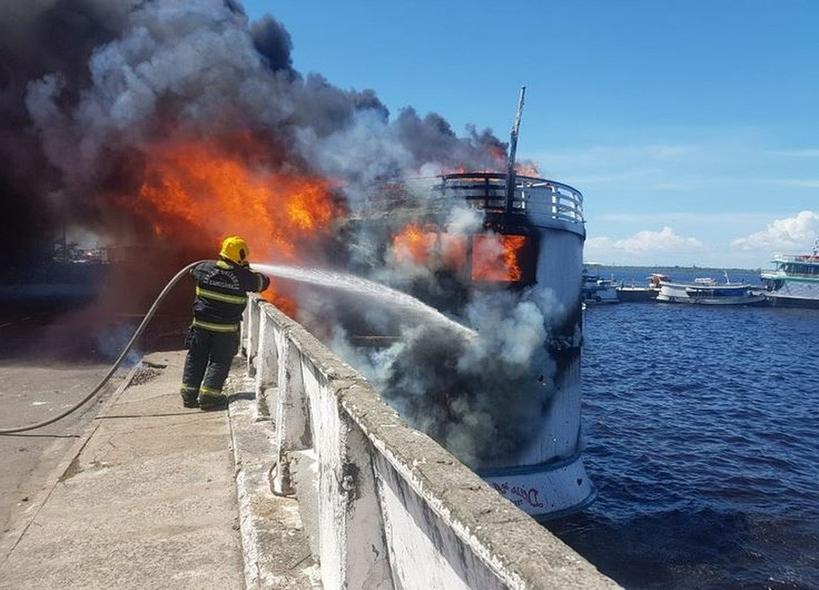Fire: (132, 128, 344, 265), (475, 235, 532, 282), (392, 223, 431, 259)
